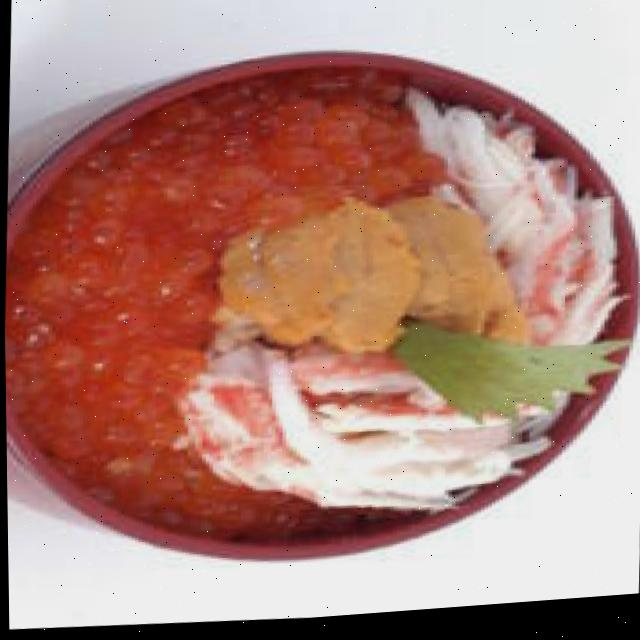刺身生食: (1, 21, 640, 594)
